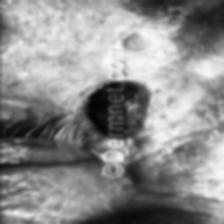Potentially Malignant Skin Tumors: (130, 58, 165, 142), (86, 89, 106, 137)
